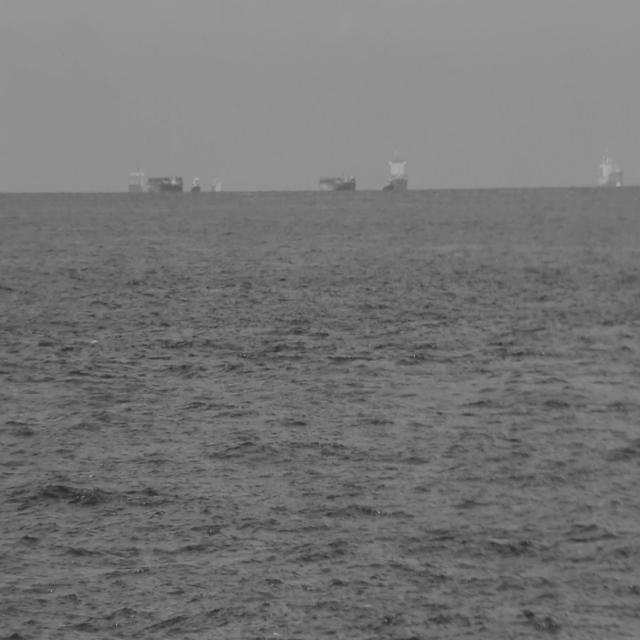ship: (126, 163, 184, 194), (380, 144, 410, 192), (596, 144, 623, 189), (318, 170, 357, 192), (189, 173, 202, 194)
